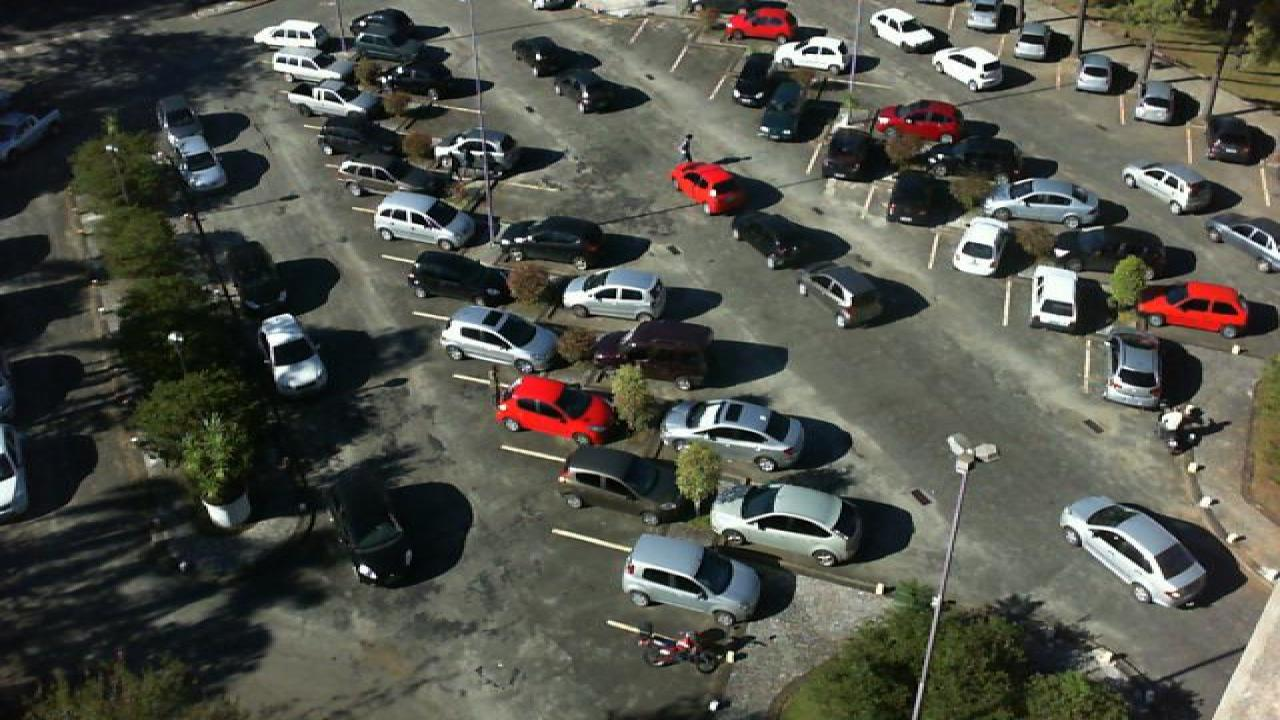Car: (1058, 492, 1212, 610), (620, 533, 766, 629), (708, 481, 866, 567), (658, 396, 810, 472), (326, 464, 416, 588), (554, 443, 692, 523), (436, 304, 564, 376), (590, 318, 714, 391), (494, 375, 620, 446), (1134, 282, 1252, 338), (370, 192, 480, 252), (560, 268, 670, 323), (260, 314, 332, 398), (494, 212, 606, 266), (794, 264, 886, 328), (404, 250, 510, 305), (1100, 330, 1166, 412), (1052, 226, 1164, 274), (984, 179, 1102, 224), (1120, 162, 1216, 215), (730, 210, 816, 269), (926, 135, 1028, 180), (668, 160, 746, 215), (952, 215, 1018, 277), (870, 100, 962, 144), (1208, 216, 1280, 272), (1028, 264, 1086, 333), (756, 81, 818, 143), (726, 48, 784, 107), (824, 124, 884, 181), (868, 7, 942, 53), (930, 45, 1002, 92), (886, 171, 946, 226), (170, 135, 226, 192), (282, 86, 372, 121), (432, 127, 514, 165), (270, 52, 354, 89), (556, 66, 622, 112), (332, 159, 406, 199), (720, 4, 796, 42), (772, 36, 852, 72), (316, 122, 392, 158), (250, 19, 328, 53), (346, 8, 416, 45), (156, 96, 212, 142), (400, 56, 474, 90), (510, 35, 570, 76), (1206, 116, 1252, 164), (358, 36, 432, 65), (1130, 81, 1174, 125), (1016, 20, 1062, 61), (1074, 53, 1116, 93), (966, 0, 1014, 32)
